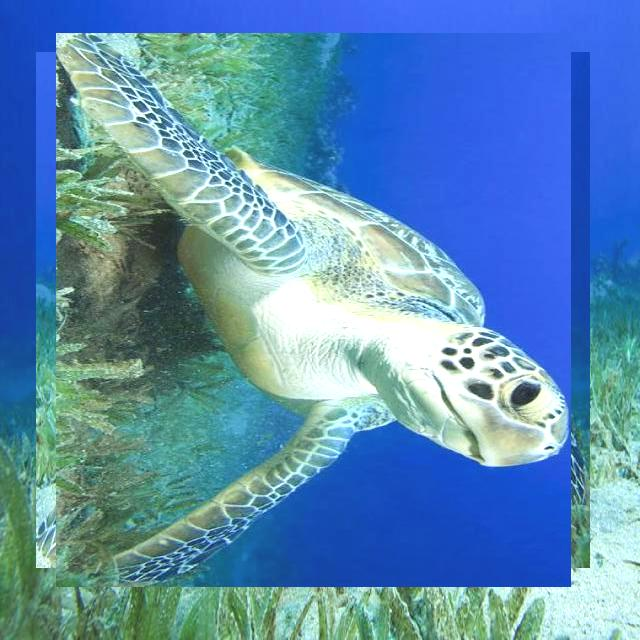Sea turtle: (46, 42, 580, 578)
